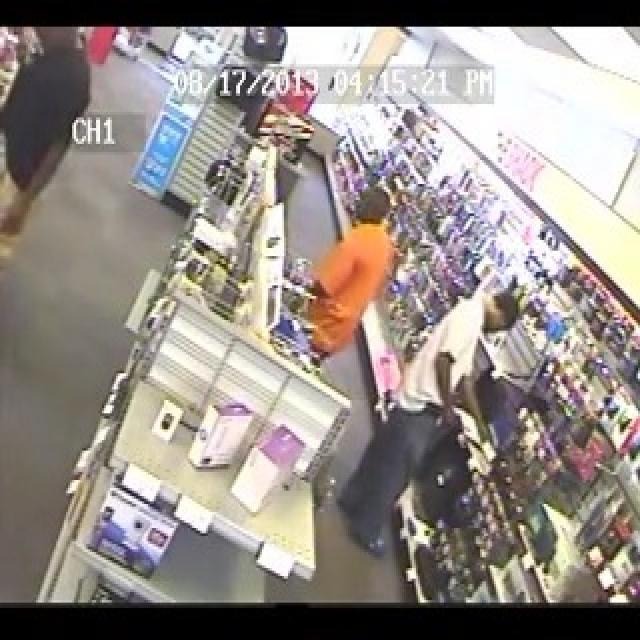Shoplifting: (465, 419, 504, 478)
